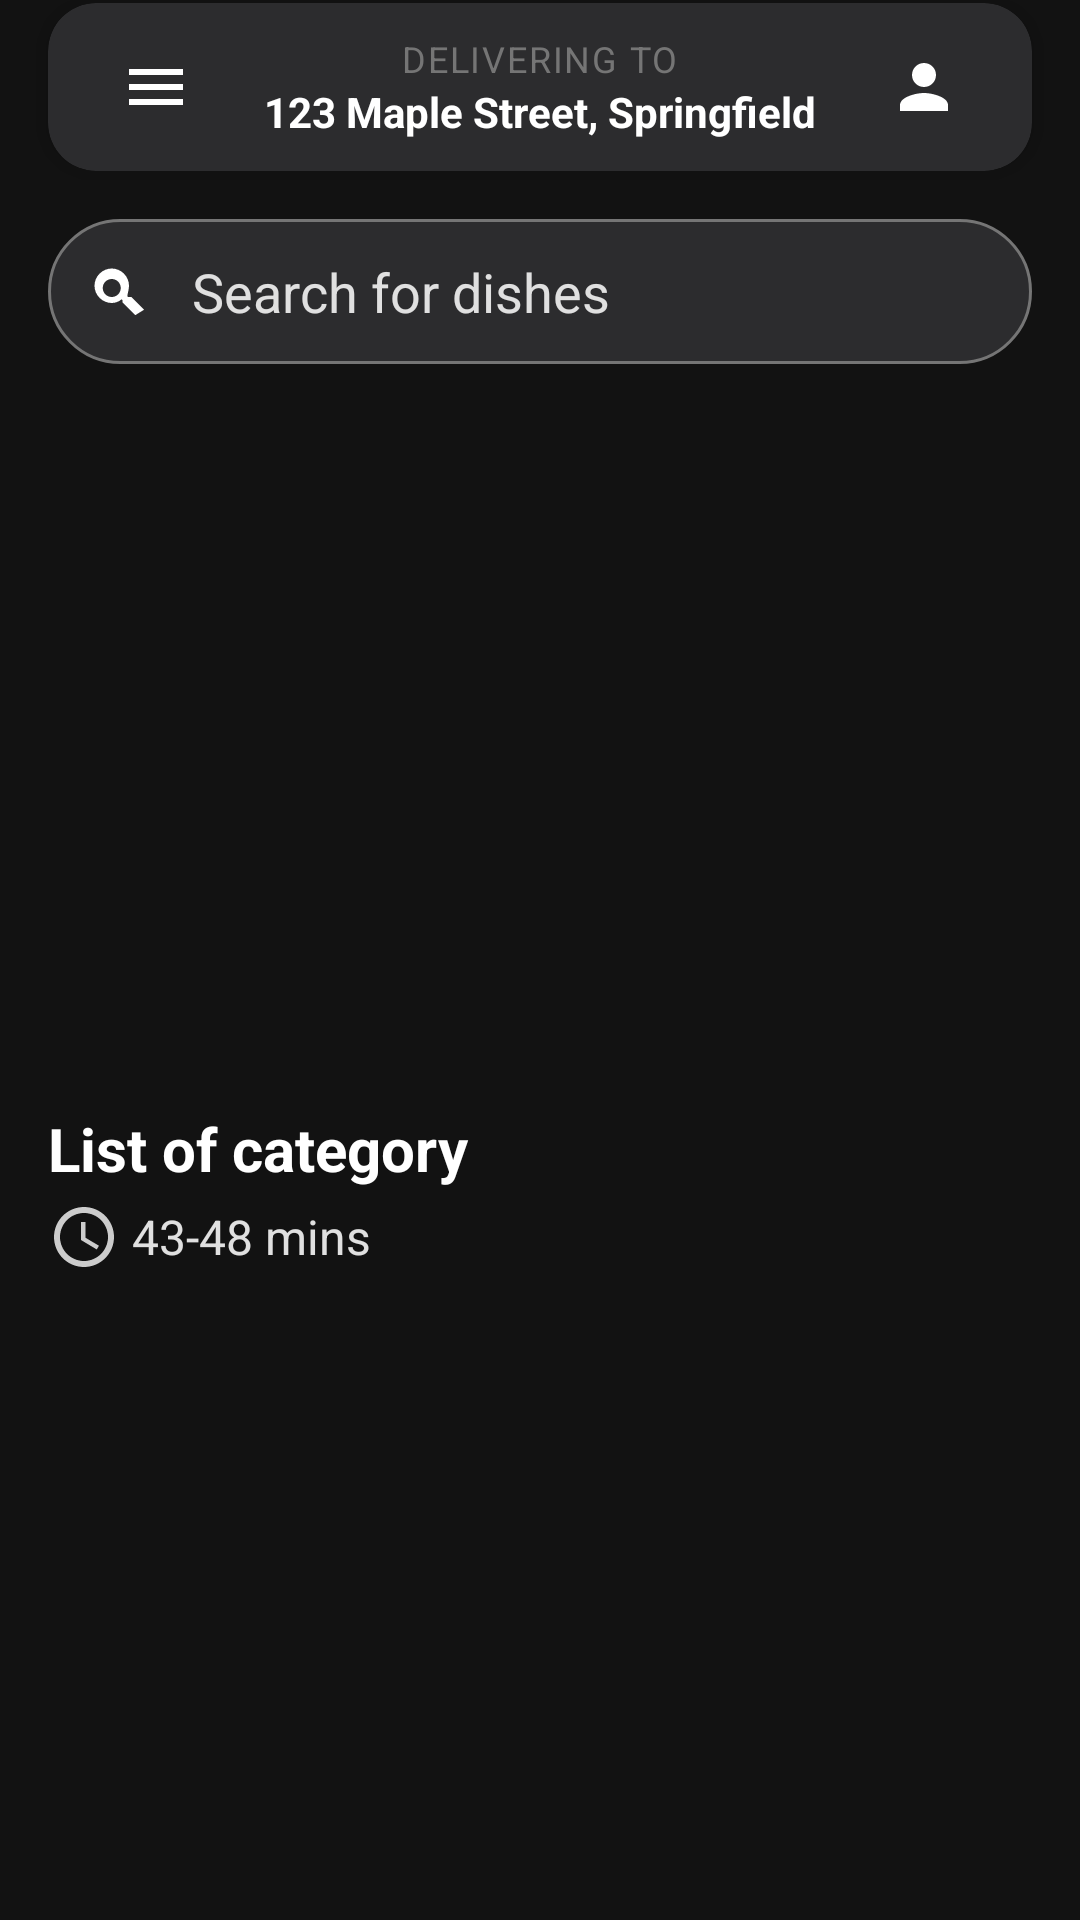

Icons on this 1080*1920 Android screen, each with its box as (x1, y1, x2, y2):
Open navigation menu: (129, 69, 183, 105)
Open user profile: (900, 63, 948, 111)
